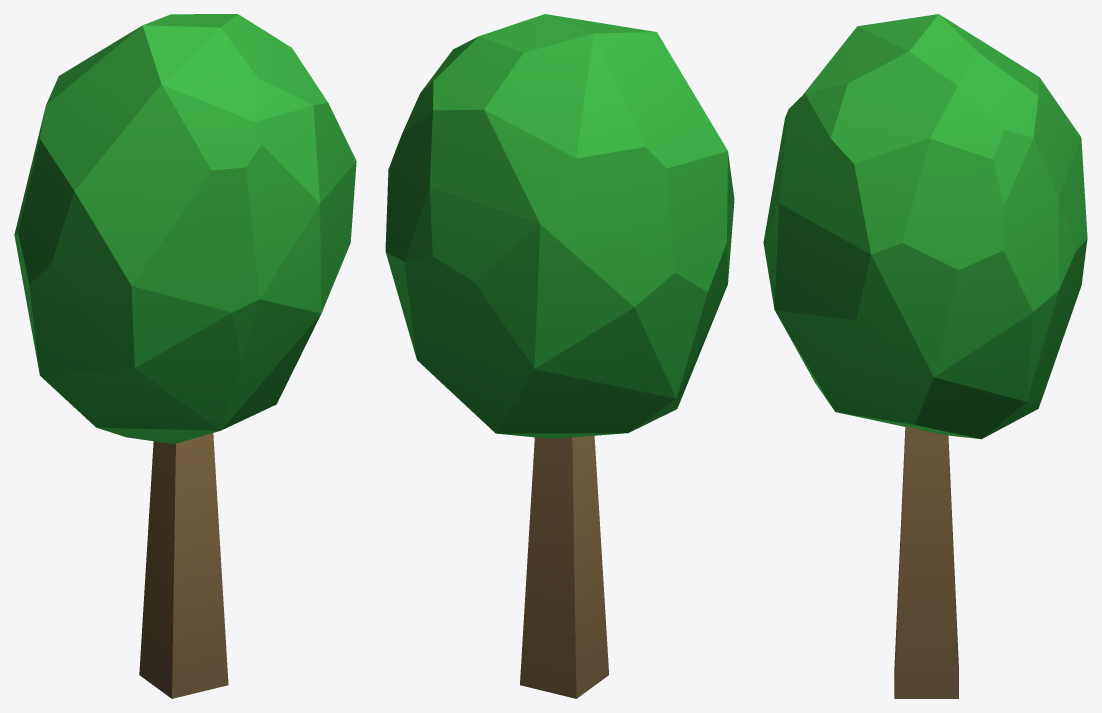
Rendered from Tree_1.fbx.
3 renders of one model, left to right at view 1: azimuth 30°, elevation 25°; view 2: azimuth 150°, elevation 25°; view 3: azimuth 270°, elevation 25°, orthographic.
Visible parts, largest first — view 1: Tree_1; view 2: Tree_1; view 3: Tree_1.
Part boxes in pixels (x1,y1,x2,y2): Tree_1: (14,14,356,698); Tree_1: (385,14,734,698); Tree_1: (763,14,1087,698).
Size of the model in its own units: 340 by 718 by 322.
